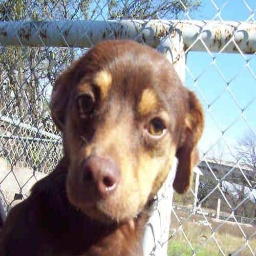dog: (3, 38, 204, 256)
